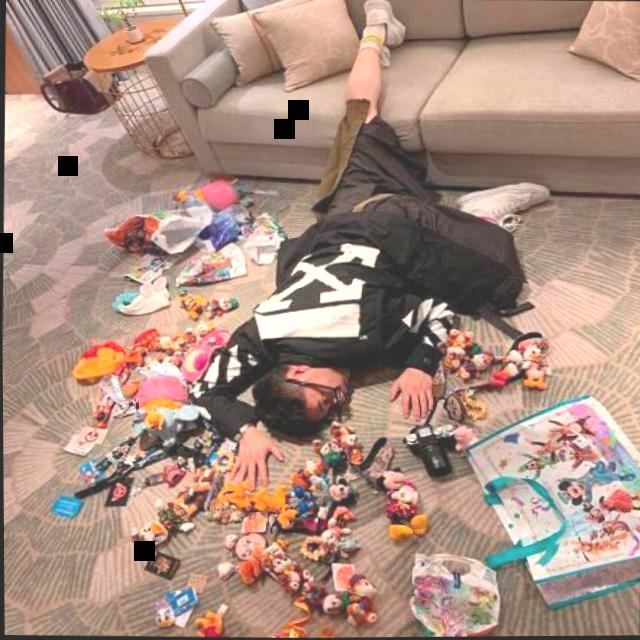Fall-Detected: (207, 0, 572, 511)
